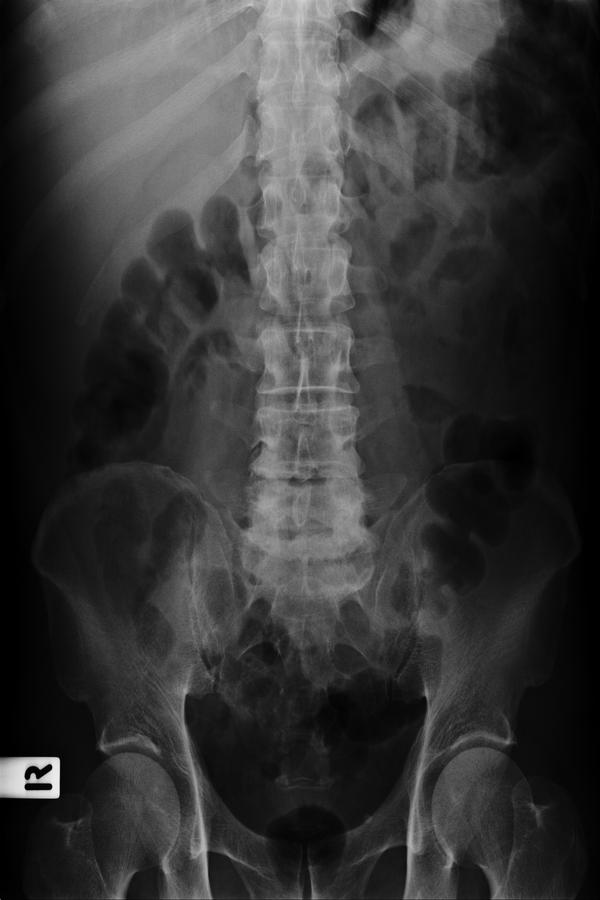not lumbar scoliosis: (232, 191, 375, 570)
